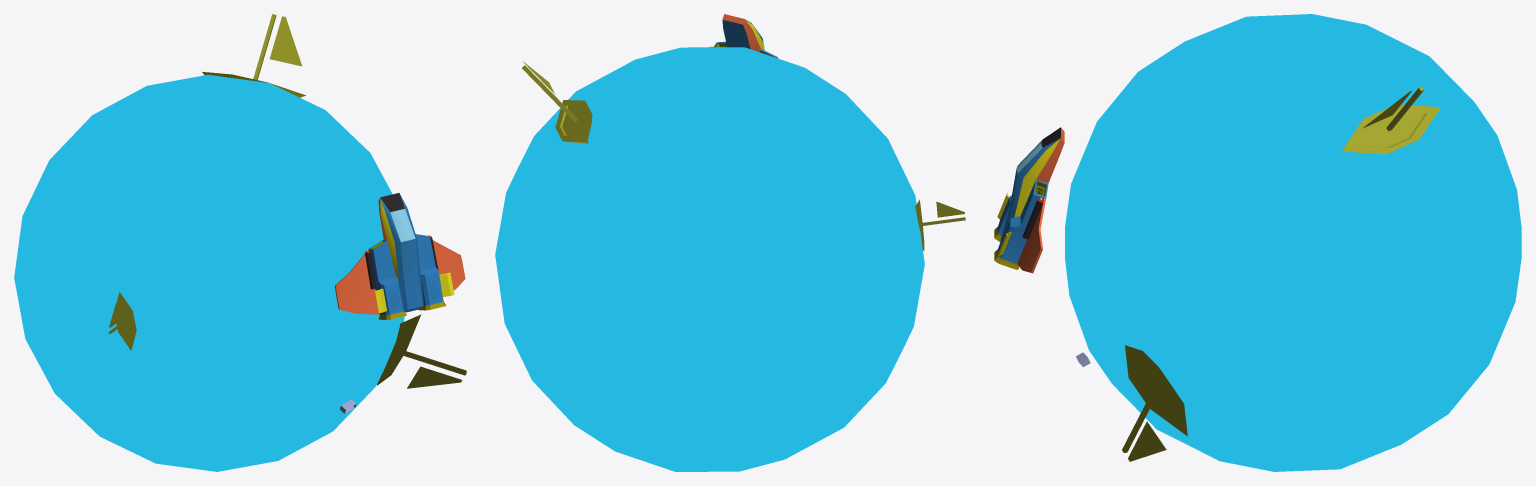
File: world_1.glb
3 renders of one model, left to right at view 1: azimuth 30°, elevation 25°; view 2: azimuth 150°, elevation 25°; view 3: azimuth 270°, elevation 25°, orthographic. The views are drawn at different scales.
Parts seen in each view (by area): view 1: Icosphere.001_1, Cube.001_0, Plane.045_39, Plane.002_2, Plane.036_37; view 2: Icosphere.001_1, Plane.002_2, Cube.001_0, Plane.036_37; view 3: Icosphere.001_1, Cube.001_0, Plane.045_39, Plane.002_2.
Boxes of the visible parts, box(x1,y1,x2,y2) form: Icosphere.001_1: box(14, 74, 404, 471); Cube.001_0: box(335, 193, 465, 319); Plane.045_39: box(377, 314, 466, 388); Plane.002_2: box(202, 14, 305, 97); Plane.036_37: box(108, 292, 136, 350); Icosphere.001_1: box(495, 47, 924, 471); Plane.002_2: box(522, 61, 592, 143); Cube.001_0: box(709, 14, 778, 58); Plane.036_37: box(915, 200, 965, 250); Icosphere.001_1: box(1065, 14, 1521, 471); Cube.001_0: box(994, 127, 1064, 273); Plane.045_39: box(1122, 345, 1187, 461); Plane.002_2: box(1342, 86, 1440, 154).
Size of the model in its own units: 2.18 by 2.19 by 2.43.
Materials: 4 (1 with a texture image).
